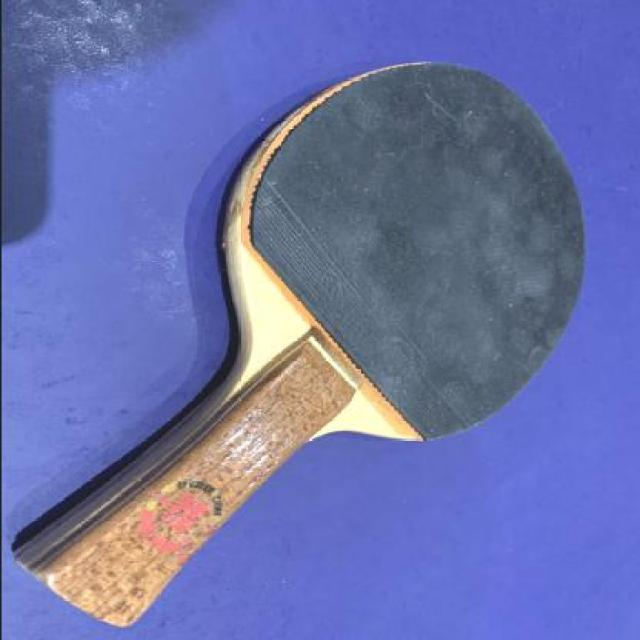table_tennis_racket: (214, 56, 603, 444)
